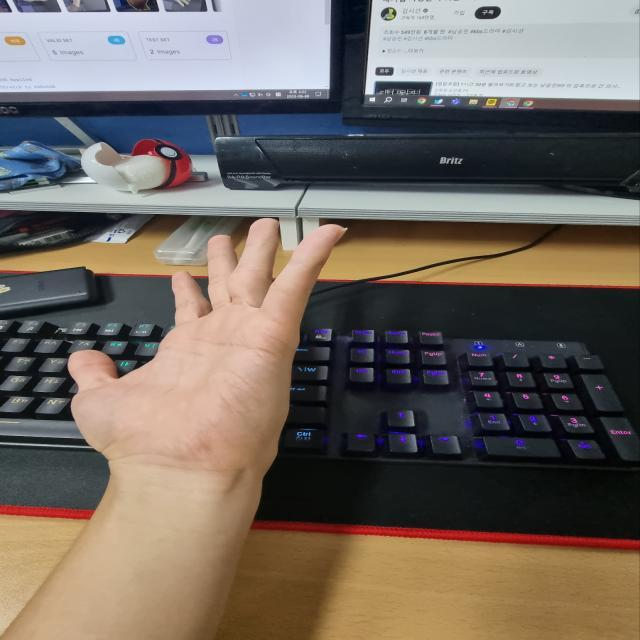keyboard-with-hands: (0, 319, 640, 468)
